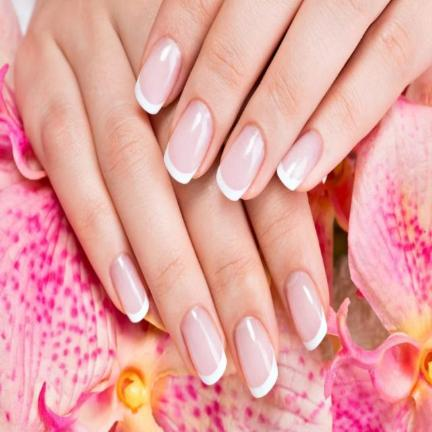Nail: (164, 100, 213, 184), (134, 36, 182, 114), (216, 125, 265, 201), (234, 316, 278, 398), (181, 307, 226, 385), (286, 271, 327, 350), (276, 130, 323, 192), (109, 254, 149, 323)
